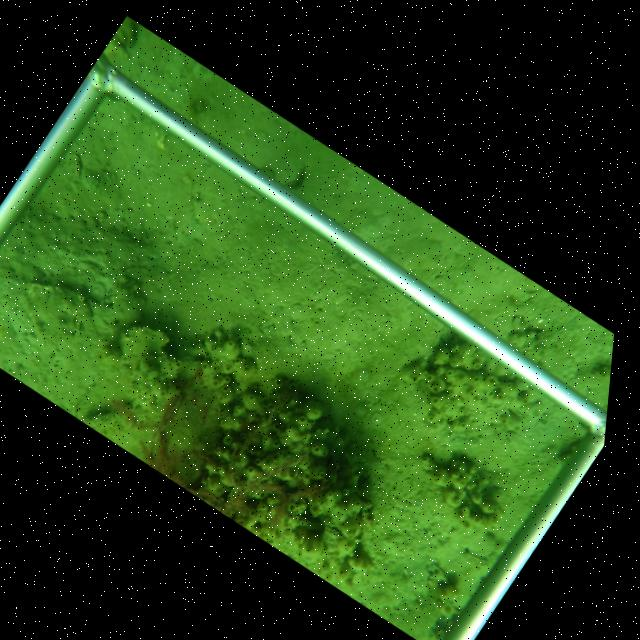Oyster-Closed: (263, 154, 309, 191)
Oyster-Indeterminate: (118, 321, 185, 419)
